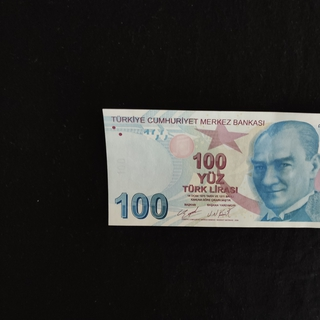100TLFront: (101, 107, 320, 229)
